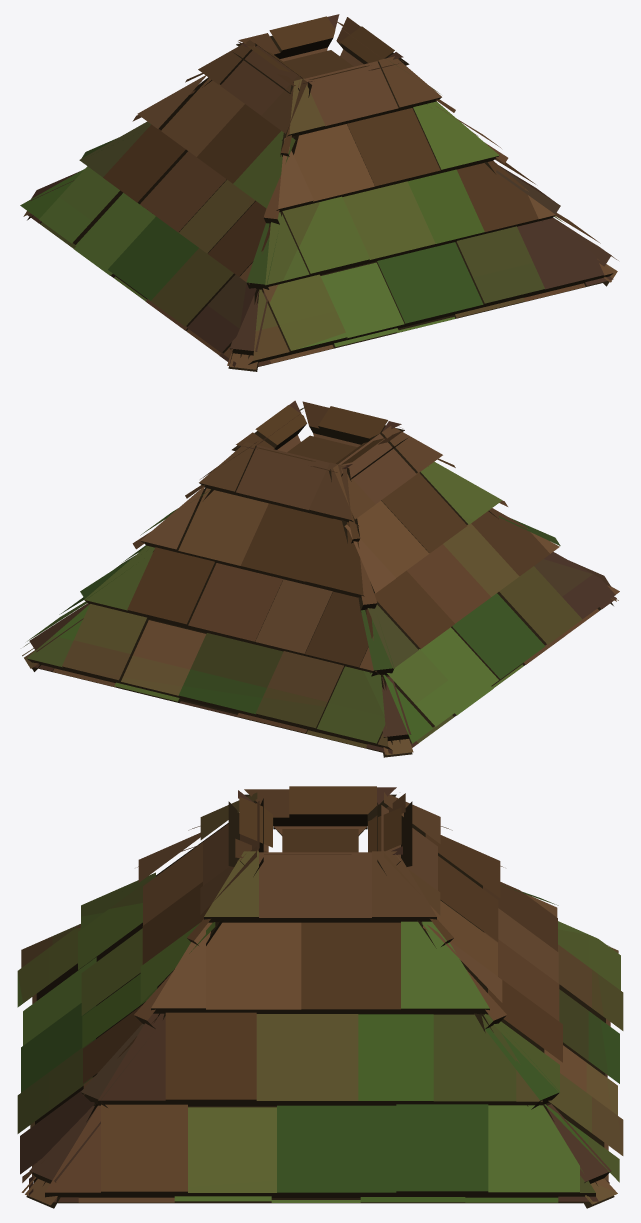
The model's file is roof-point-mossy.glb.
3 renders of one model, top to bottom at view 1: azimuth 30°, elevation 25°; view 2: azimuth 150°, elevation 25°; view 3: azimuth 270°, elevation 25°, orthographic. The views are drawn at different scales.
Visible parts, largest first — view 1: roof-point-mossy; view 2: roof-point-mossy; view 3: roof-point-mossy.
Part boxes in pixels (x1,y1,x2,y2): roof-point-mossy: (20, 14, 618, 371); roof-point-mossy: (22, 400, 619, 757); roof-point-mossy: (17, 786, 623, 1208).
Bounding box in the file's own units: 1.1 × 0.5226 × 1.1.
